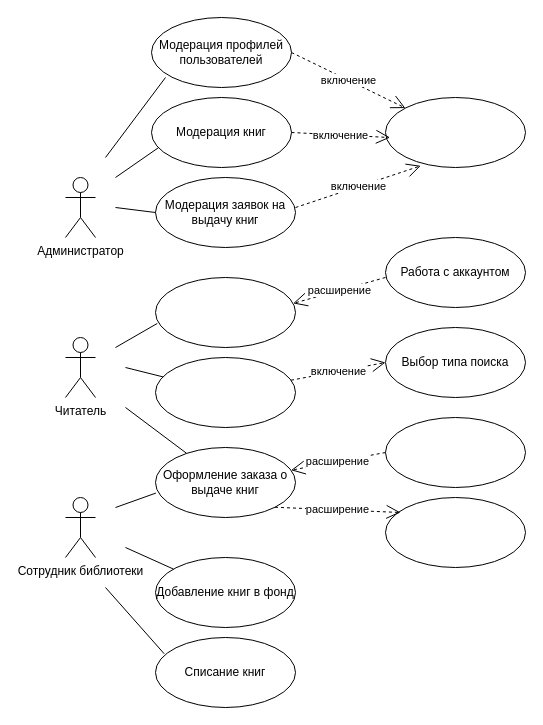
The diagram is 543 pixels wide and 725 high, and some of its shapes have lost their labels. The shapes that lost their labels are listed below. From the top down, each one's box as (x1, y1, x2, y2) in pixels, then its label:
(384, 96, 526, 168): Проверка соблюдения требований
(154, 276, 296, 348): Авторизоваться
(154, 356, 296, 428): Поиск в каталоге
(384, 416, 526, 488): Оформить возврат книг
(384, 496, 526, 568): Уведомление о задолженности
